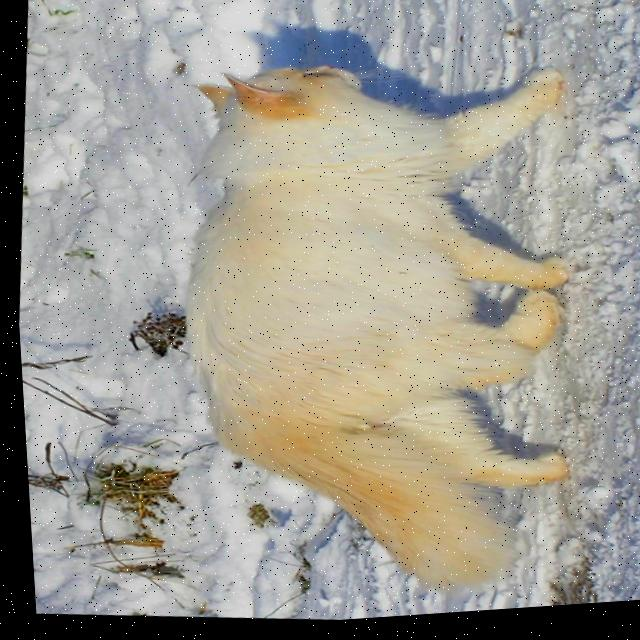Neva Masquerade: (134, 37, 607, 626)
